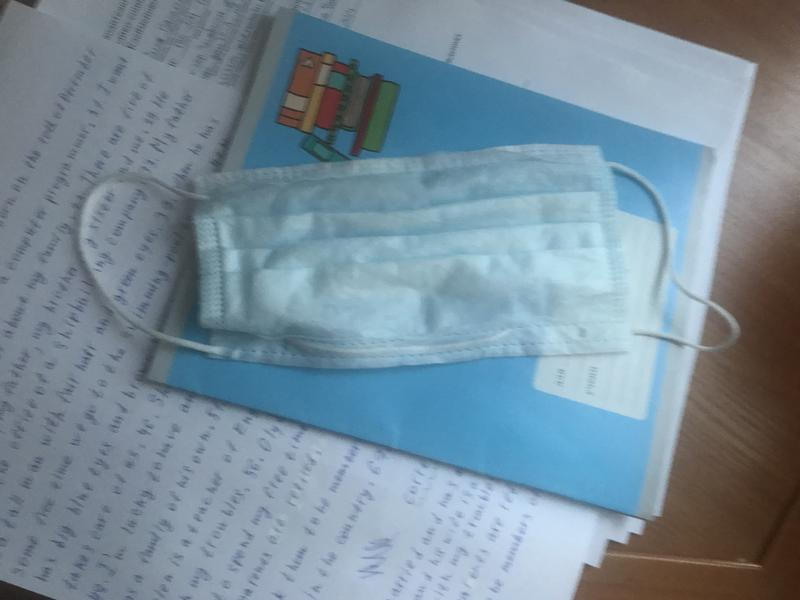medical_mask: (79, 142, 741, 372)
